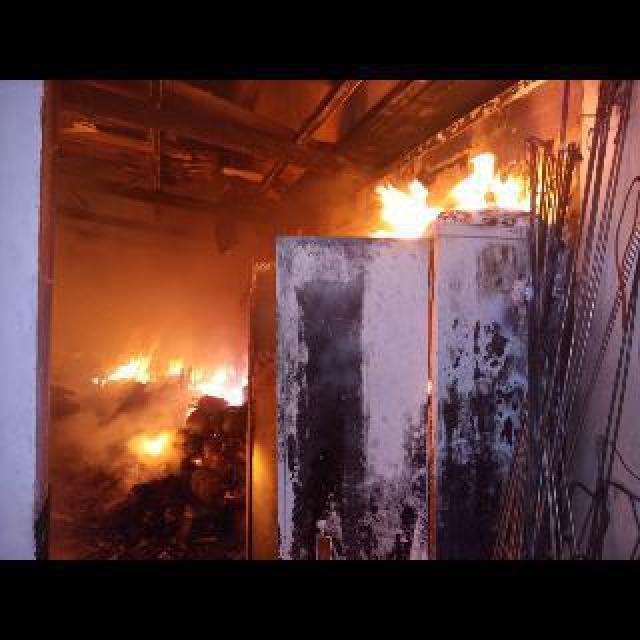Fire: (364, 156, 542, 232), (190, 362, 248, 408), (88, 348, 154, 382), (130, 428, 168, 454), (162, 358, 186, 376)
